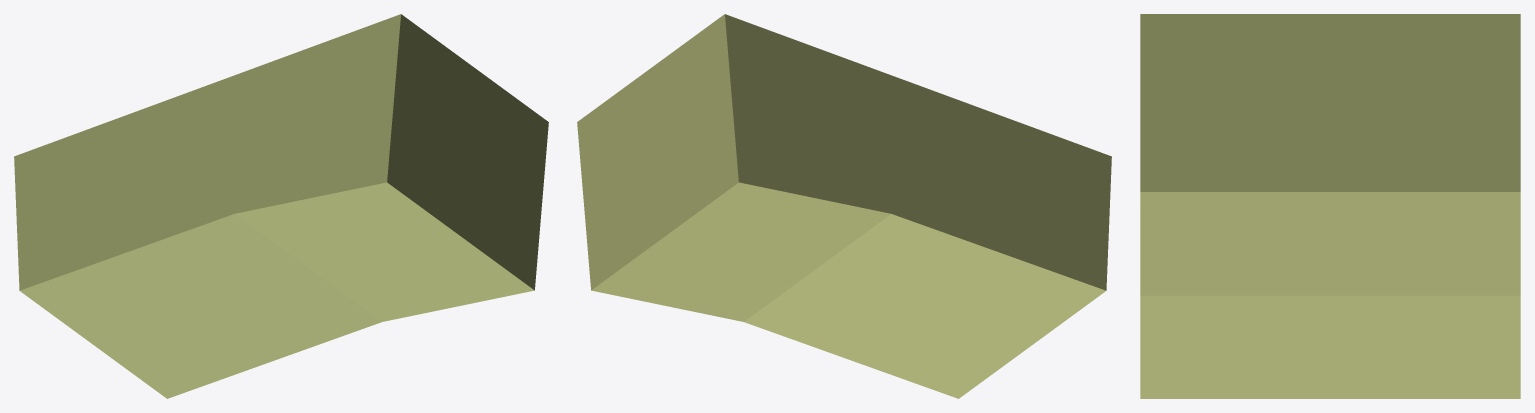
The picture shows the model from 3 angles, left to right: view 1: azimuth 30°, elevation 25°; view 2: azimuth 150°, elevation 25°; view 3: azimuth 270°, elevation 25°; orthographic projection. The views are drawn at different scales.
Visible parts, largest first — view 1: 0_1_2_0_3_3_1_3_1_3_3; view 2: 0_1_2_0_3_3_1_3_1_3_3; view 3: 0_1_2_0_3_3_1_3_1_3_3.
Boxes of the visible parts, left/top/right/bottom form: 0_1_2_0_3_3_1_3_1_3_3: left=14, top=14, right=548, bottom=398; 0_1_2_0_3_3_1_3_1_3_3: left=577, top=14, right=1111, bottom=398; 0_1_2_0_3_3_1_3_1_3_3: left=1140, top=14, right=1520, bottom=398.
Bounding box in the file's own units: 9.07 × 4.12 × 6.
